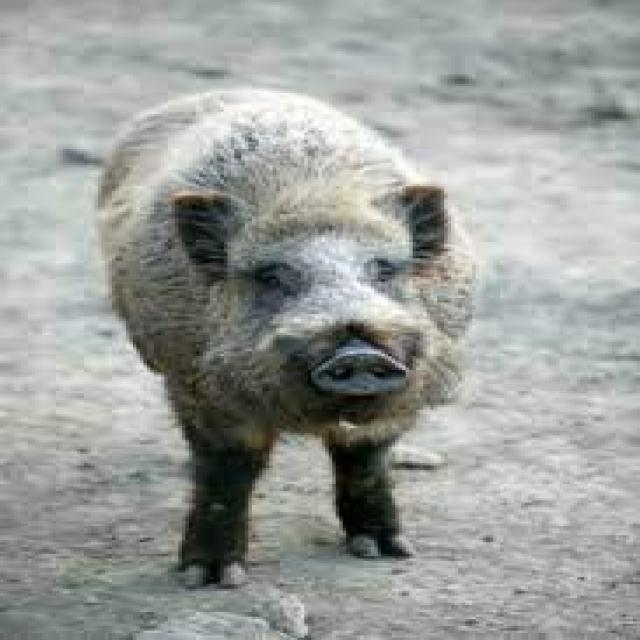boar: (60, 69, 537, 592)
